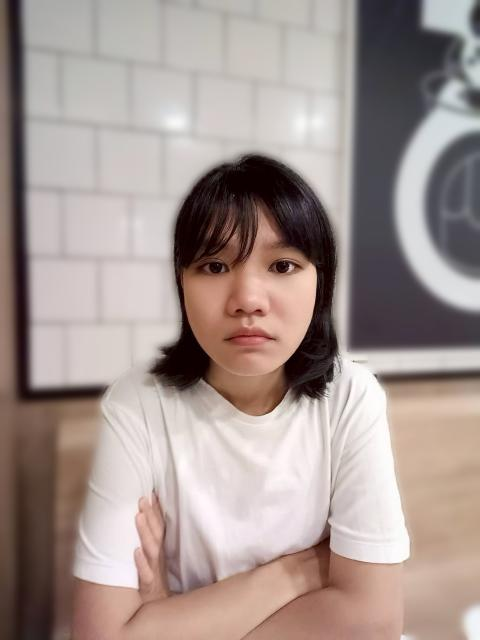fokus: (179, 177, 326, 380)
